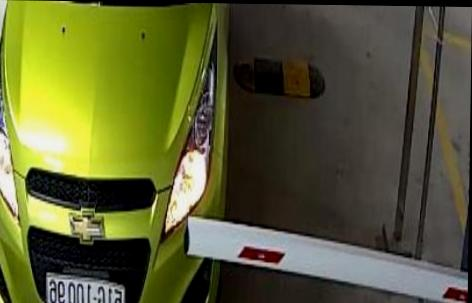License_Plate: (43, 274, 129, 303)
